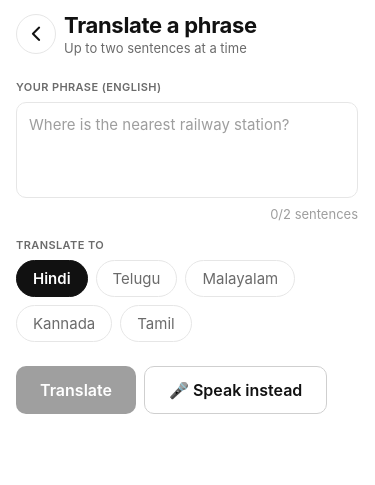
Test case: TranslateScreen › shows a permission error when microphone access is refused
Click the button with test id "record-speech-button".
click(236, 390)  # box top-left (144, 366), bottom-right (327, 414)
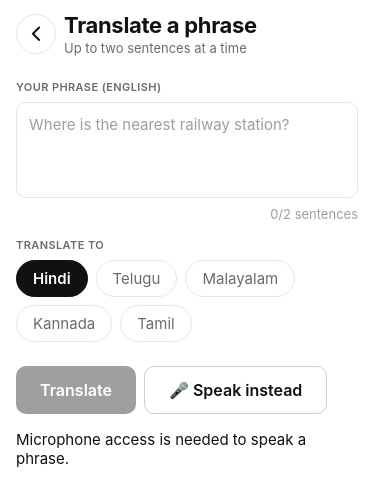
Result: the text "Microphone access is needed to speak a phrase." is shown at top-left (16, 430), bottom-right (358, 468)
